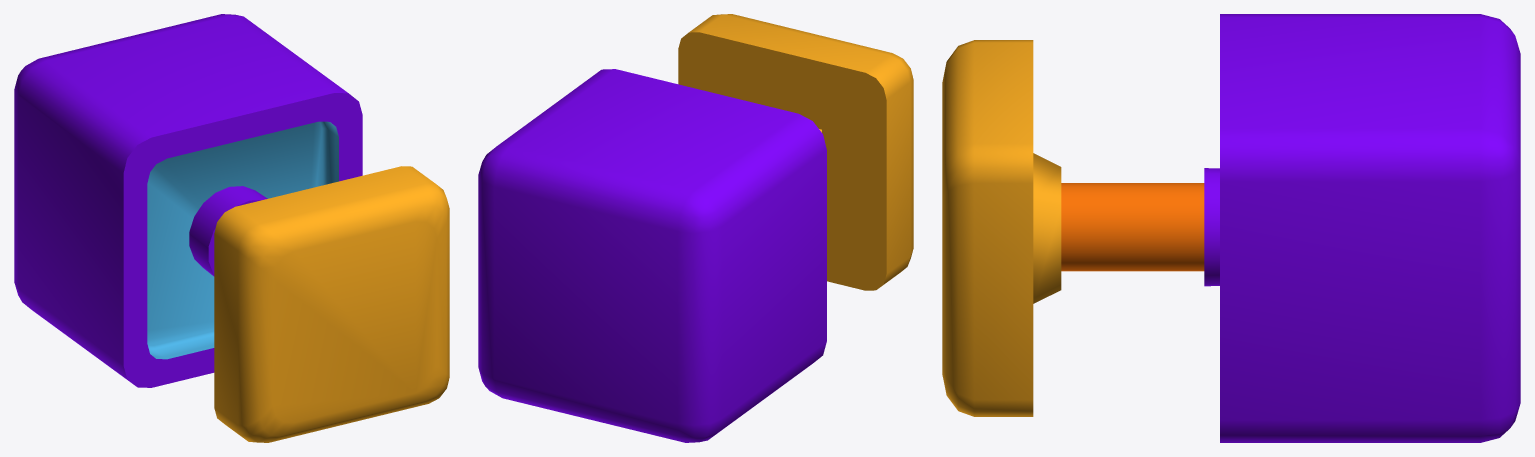
The model's file is Pusher_02.fbx.
3 views of the same model, side by side, from view 1: azimuth 30°, elevation 25°; view 2: azimuth 150°, elevation 25°; view 3: azimuth 270°, elevation 25° (orthographic). The views are drawn at different scales.
Parts seen in each view (by area): view 1: Obstacle_Pusher_02, Obstacle_Pusher_02_Head; view 2: Obstacle_Pusher_02, Obstacle_Pusher_02_Head; view 3: Obstacle_Pusher_02, Obstacle_Pusher_02_Head.
Boxes of the visible parts, box(x1,y1,x2,y2) form: Obstacle_Pusher_02: box(14, 14, 362, 387); Obstacle_Pusher_02_Head: box(214, 166, 449, 442); Obstacle_Pusher_02: box(478, 69, 826, 442); Obstacle_Pusher_02_Head: box(678, 14, 913, 290); Obstacle_Pusher_02: box(1204, 14, 1520, 442); Obstacle_Pusher_02_Head: box(942, 40, 1204, 416).
Bounding box in the file's own units: 112 × 112 × 190.
1 material, 1 textured.
